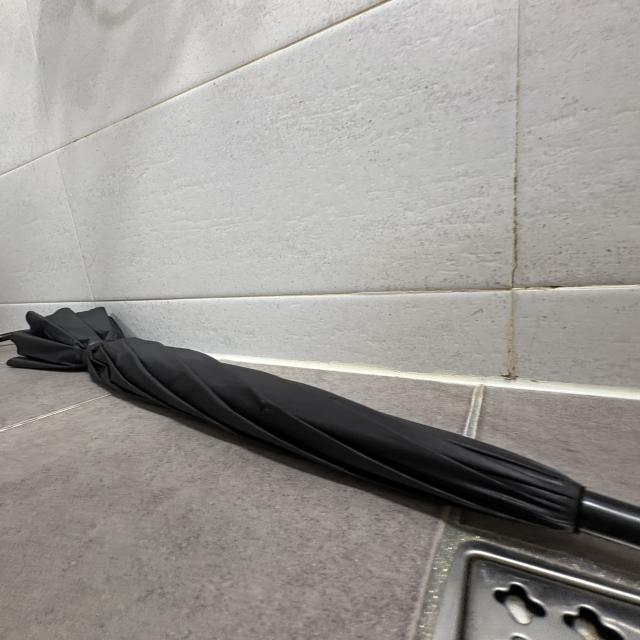umbrella: (2, 303, 640, 547)
